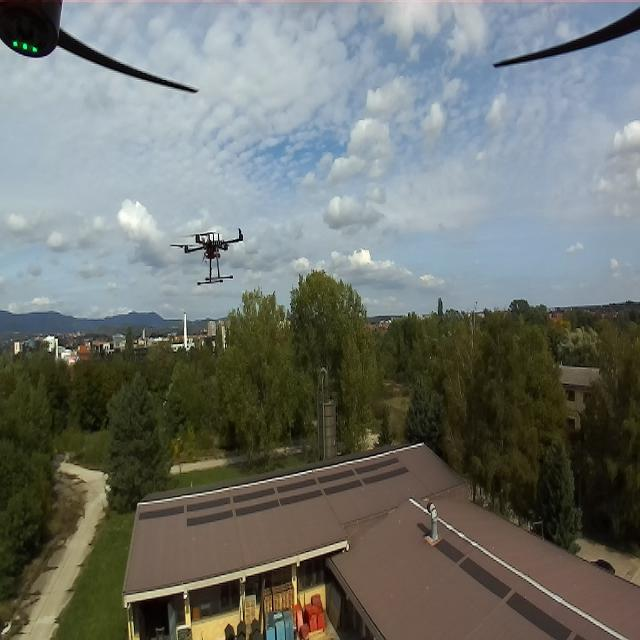UAV: (173, 221, 250, 291)
